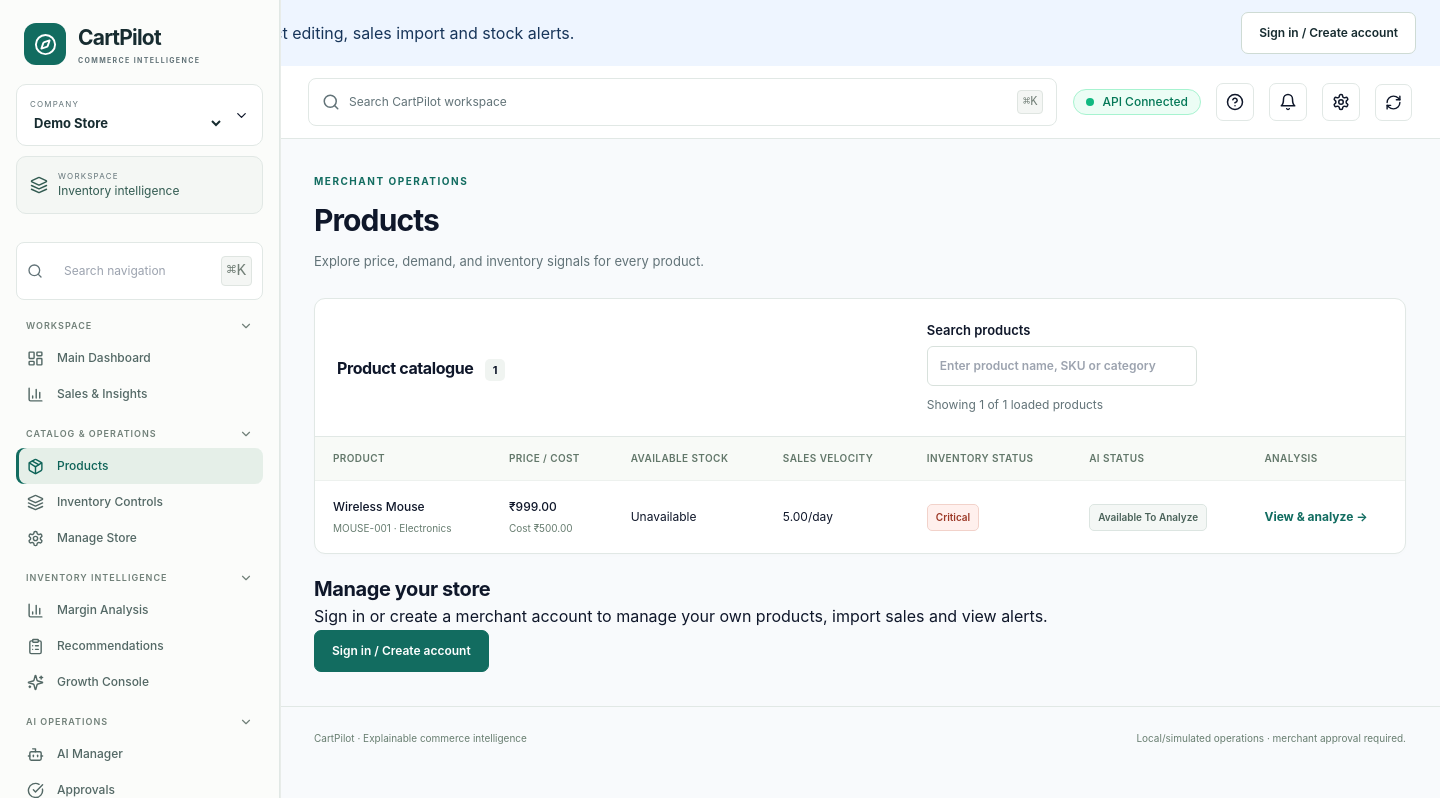
it: Listing experience › allows listing analysis even when inventory is missing
The width and height of the screenshot is (1440, 798).
Click the button with aria-label "Analyze Wireless Mouse" at (1316, 517), box [1264,498,1368,536]
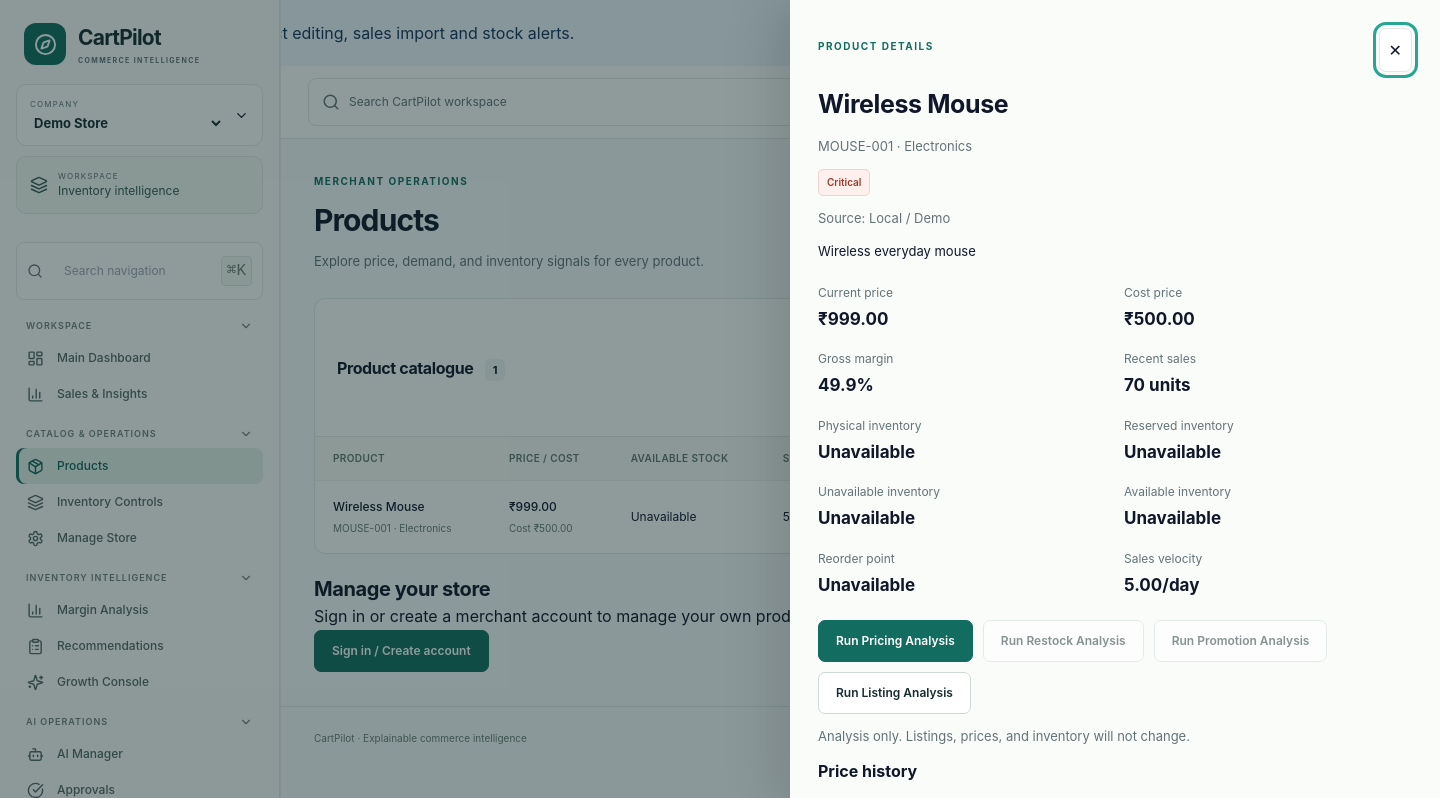
Check: the button "Run Listing Analysis" is enabled, box [818,672,971,714]
